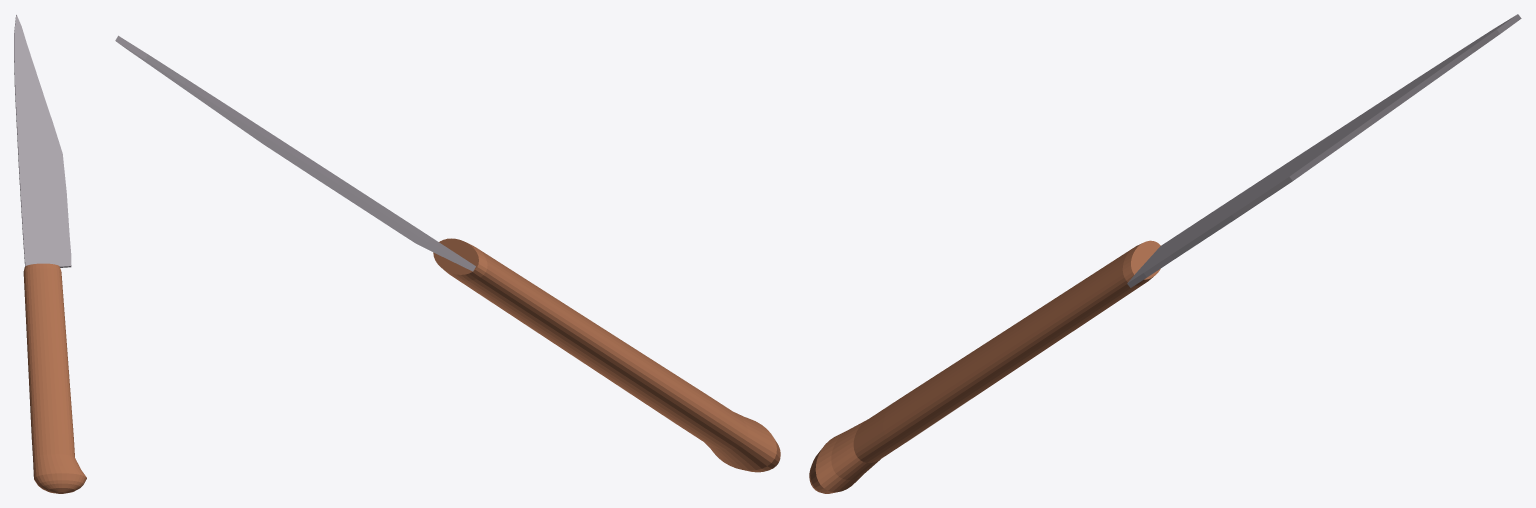
File: cuchillos.fbx
The picture shows the model from 3 angles, left to right: view 1: azimuth 30°, elevation 25°; view 2: azimuth 150°, elevation 25°; view 3: azimuth 270°, elevation 25°; orthographic projection. The views are drawn at different scales.
Visible parts, largest first — view 1: Cuchillo.001; view 2: Cuchillo.001; view 3: Cuchillo.001.
Part boxes in pixels (bbox=[...]): Cuchillo.001: bbox=[14, 14, 86, 493]; Cuchillo.001: bbox=[115, 35, 780, 472]; Cuchillo.001: bbox=[809, 14, 1521, 493].
Size of the model in its own units: 38.83 by 35.92 by 18.67.
